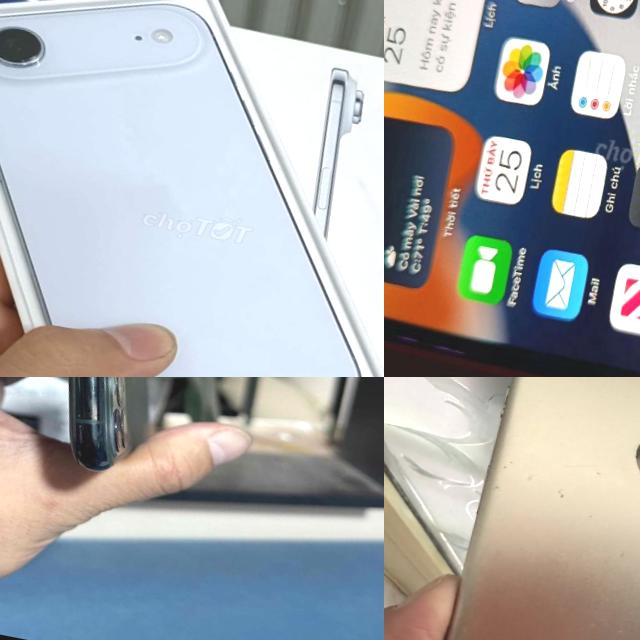scratch: (585, 541, 640, 627), (66, 408, 132, 474), (534, 471, 596, 524), (490, 377, 546, 433), (478, 445, 526, 509), (588, 457, 627, 494), (439, 630, 495, 640)
